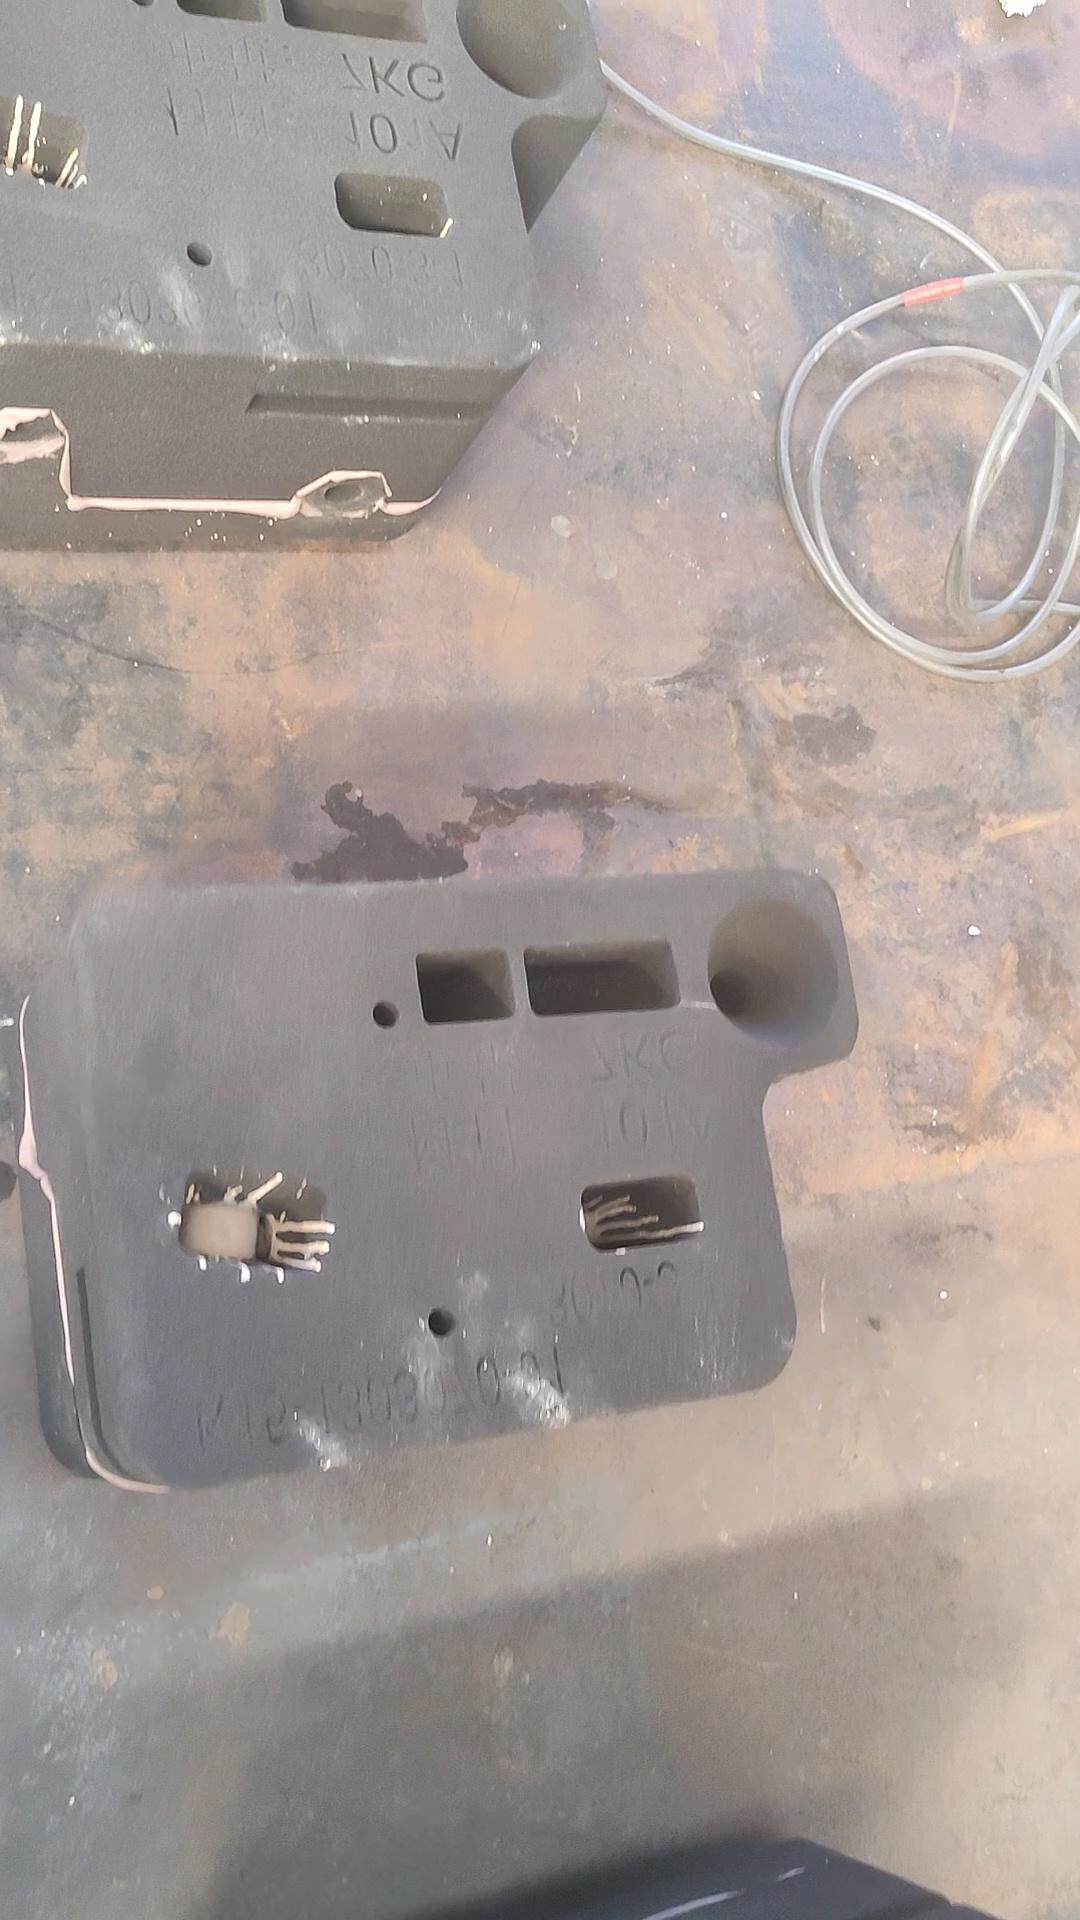pouring hole: (709, 898, 837, 1048), (455, 1, 584, 96)
